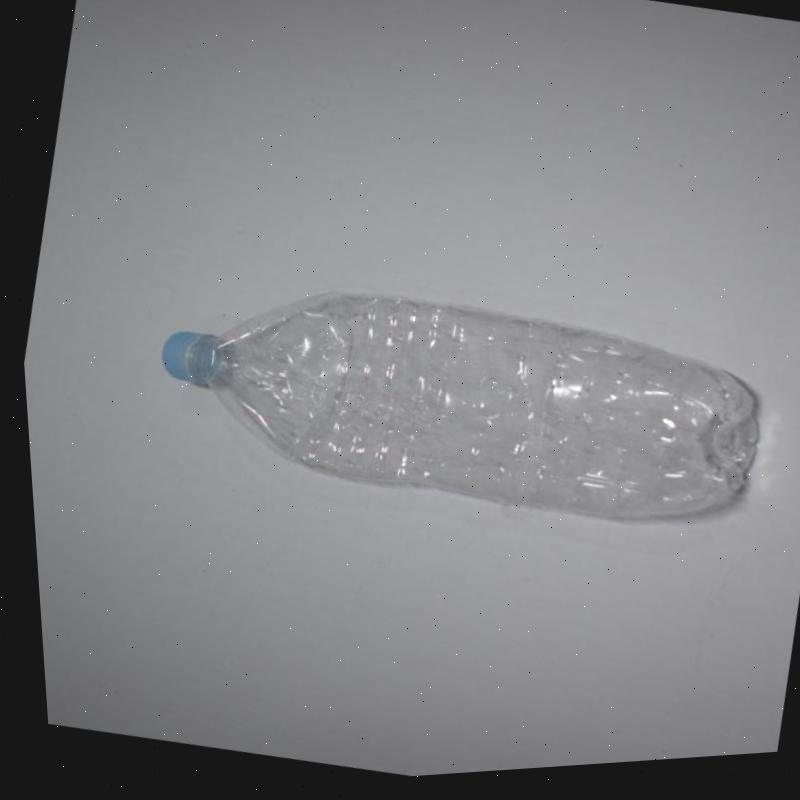botella: (129, 234, 772, 583)
